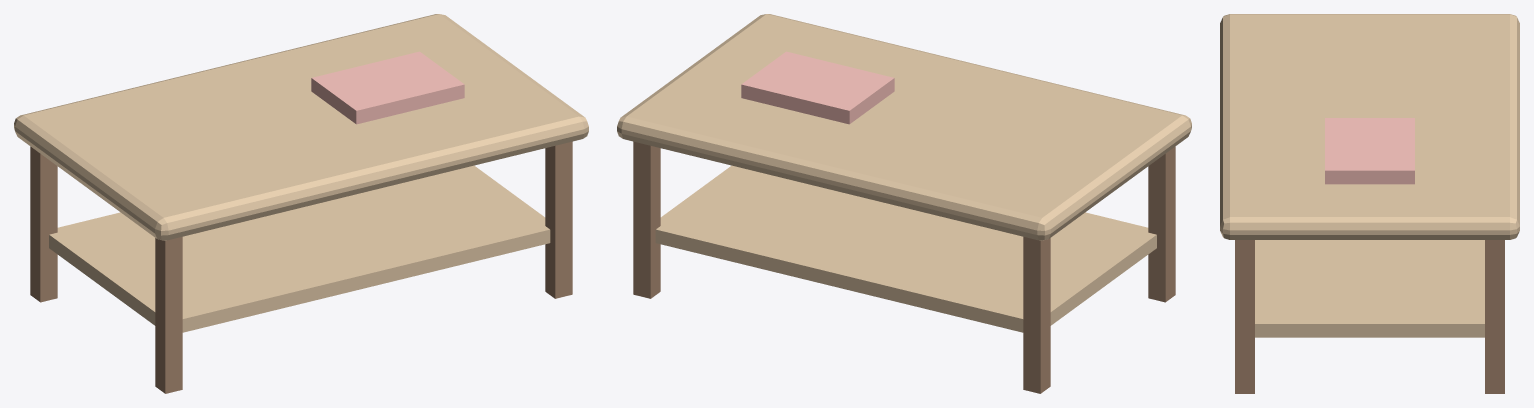
File: mesa_centro.glb
3 renders of one model, left to right at view 1: azimuth 30°, elevation 25°; view 2: azimuth 150°, elevation 25°; view 3: azimuth 270°, elevation 25°, orthographic.
Visible parts, largest first — view 1: mesa_centro; view 2: mesa_centro; view 3: mesa_centro.
Part boxes in pixels (box(x1,y1,x2,y2)): mesa_centro: box(14, 14, 588, 393); mesa_centro: box(617, 14, 1191, 393); mesa_centro: box(1220, 14, 1519, 393).
Bounding box in the file's own units: 1 × 0.425 × 0.6.
